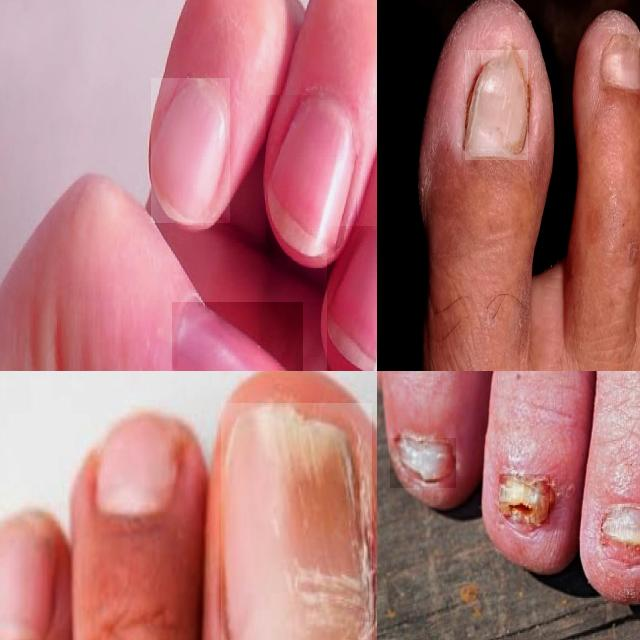diabetes: (222, 403, 372, 640), (465, 50, 528, 160), (391, 439, 456, 488), (500, 475, 550, 524), (601, 505, 640, 567), (600, 35, 640, 91)
sehat: (267, 96, 357, 258), (151, 78, 230, 223), (172, 303, 286, 371), (328, 226, 377, 371)
